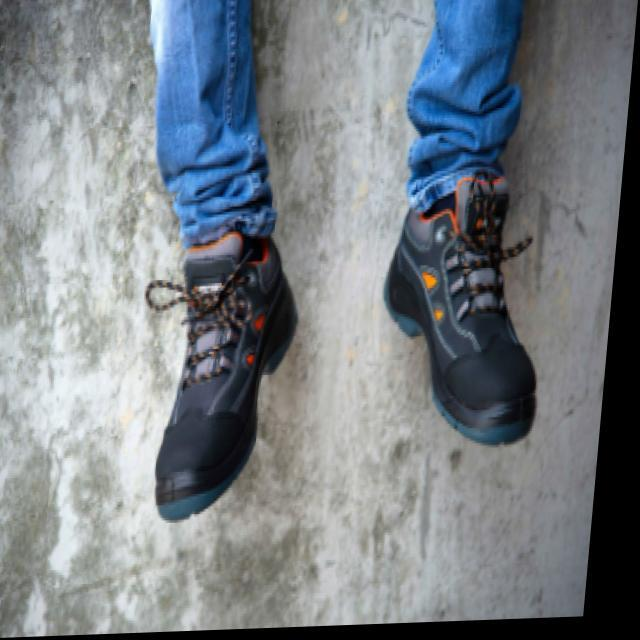boots: (122, 166, 563, 527)
